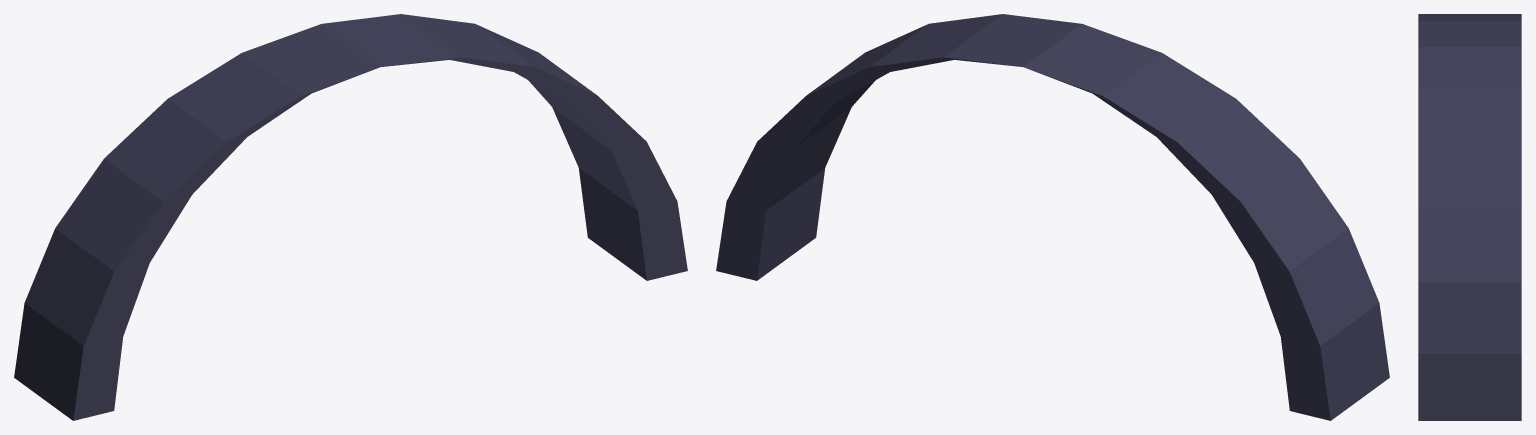
Rendered from Track_Archway.glb.
3 renders of one model, left to right at view 1: azimuth 30°, elevation 25°; view 2: azimuth 150°, elevation 25°; view 3: azimuth 270°, elevation 25°, orthographic. The views are drawn at different scales.
Visible parts, largest first — view 1: Track_Archway; view 2: Track_Archway; view 3: Track_Archway.
Boxes of the visible parts, left/top/right/bottom form: Track_Archway: left=14, top=14, right=687, bottom=420; Track_Archway: left=716, top=14, right=1389, bottom=420; Track_Archway: left=1418, top=14, right=1521, bottom=420.
Size of the model in its own units: 3 by 1.3 by 0.5.
